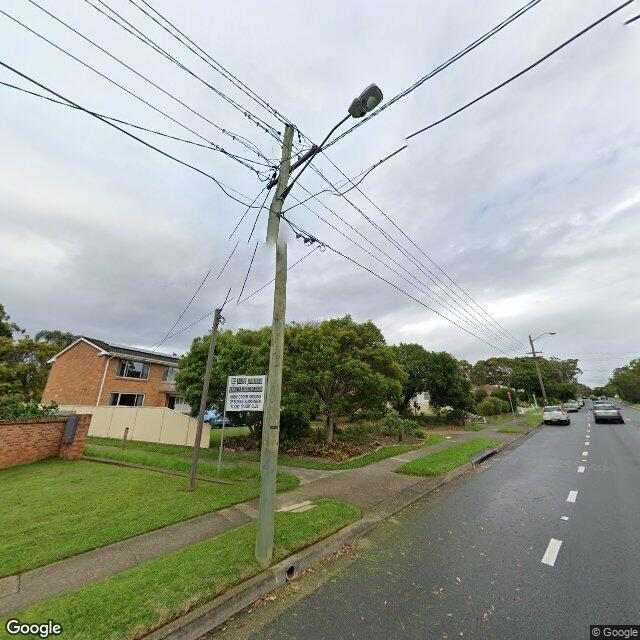crossarm: (267, 145, 318, 189), (525, 351, 543, 354)
streetlight: (278, 83, 384, 202), (531, 332, 556, 342)
timber-pole: (253, 123, 295, 568), (188, 308, 221, 492), (529, 334, 548, 406)
